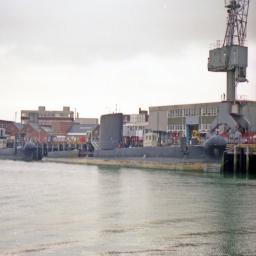submarine: (55, 109, 223, 173), (2, 143, 36, 162)
